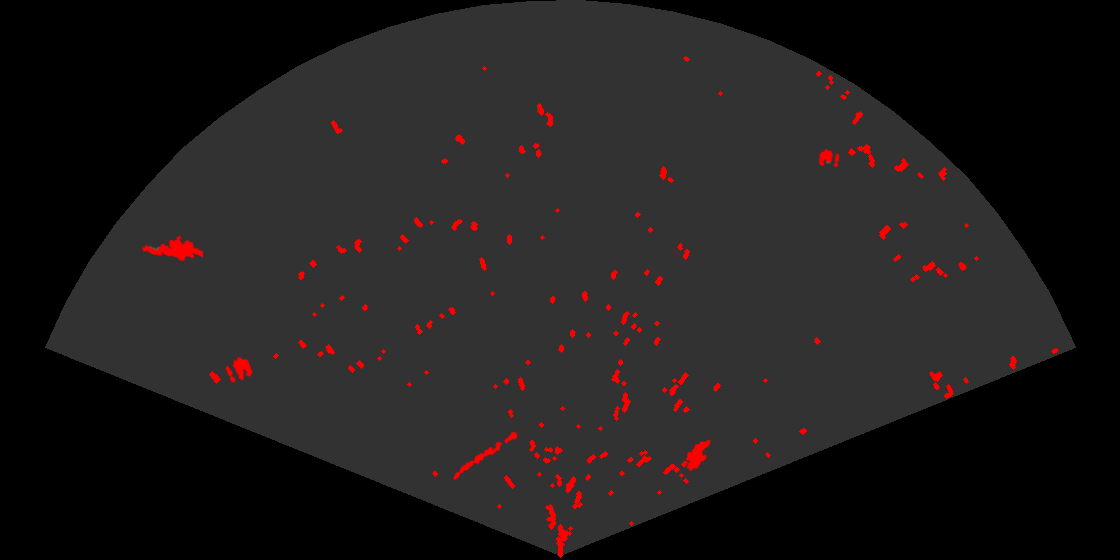AUV: (684, 438, 712, 473)
ball: (224, 355, 254, 384), (817, 147, 841, 169)
chain: (451, 427, 523, 481)
frogman: (140, 234, 203, 263)
